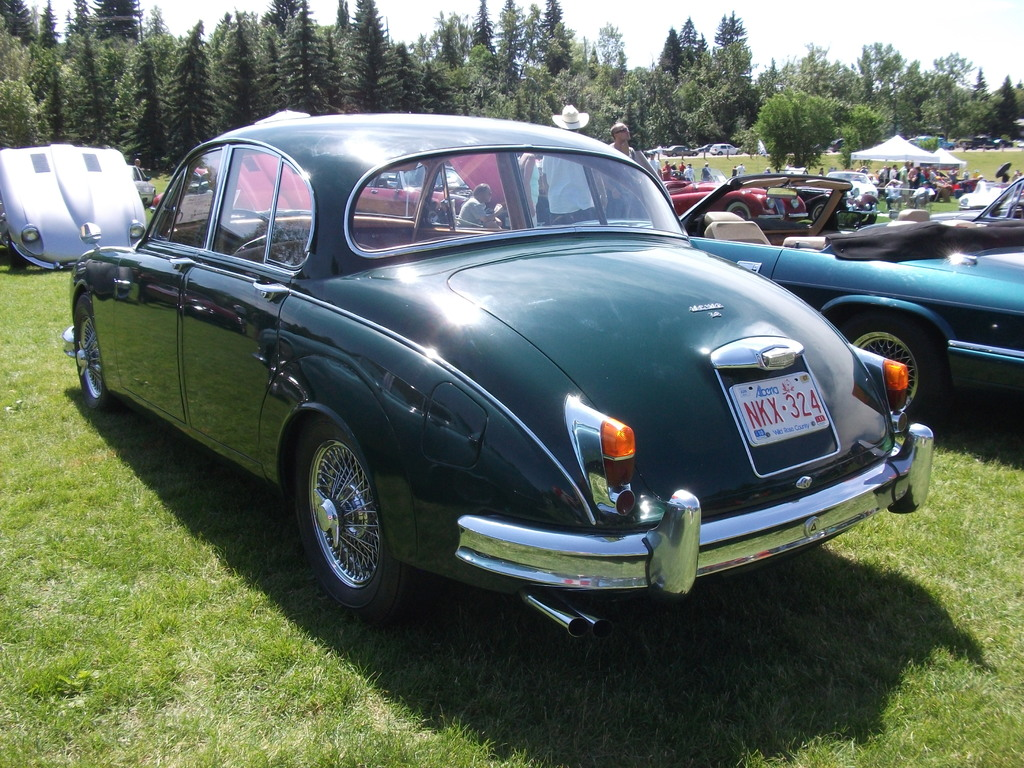Car: (0, 104, 1023, 643)
